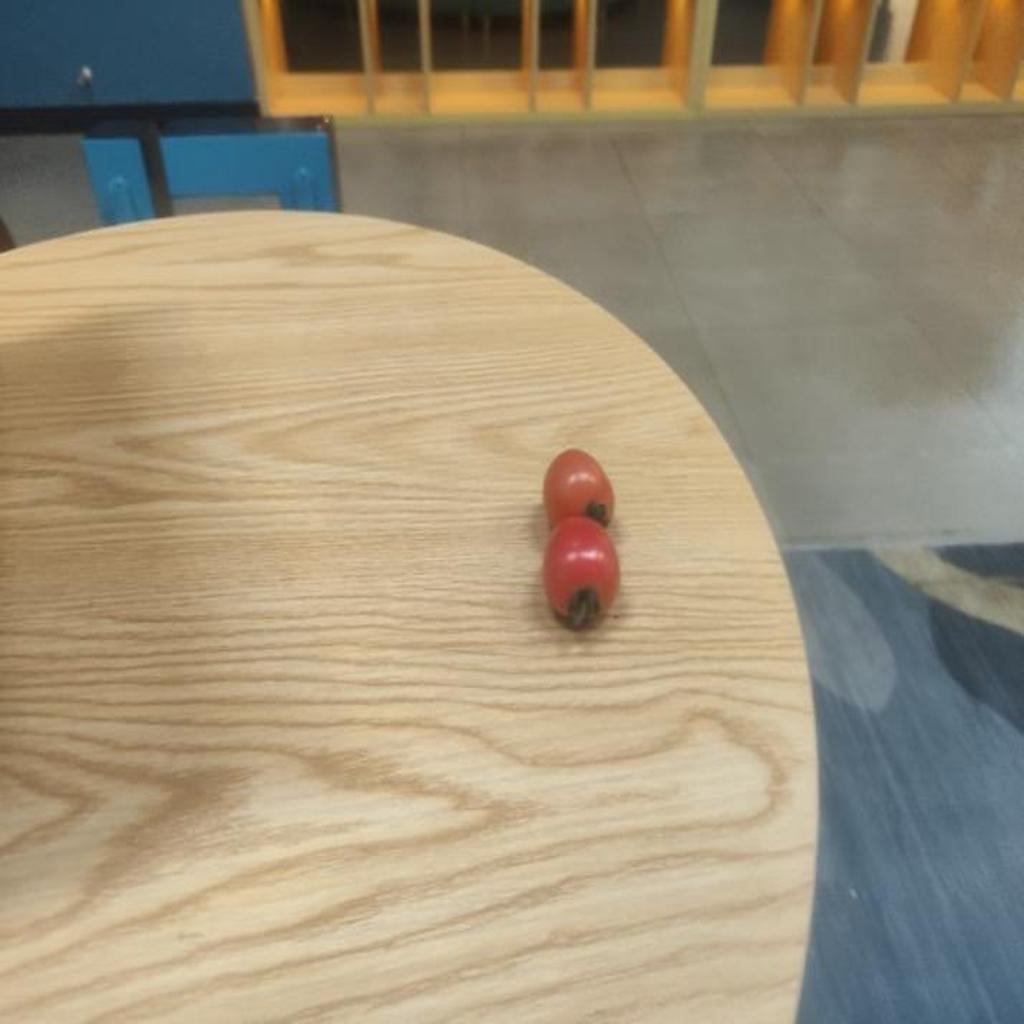tomato: (540, 520, 626, 629), (541, 449, 624, 531)
